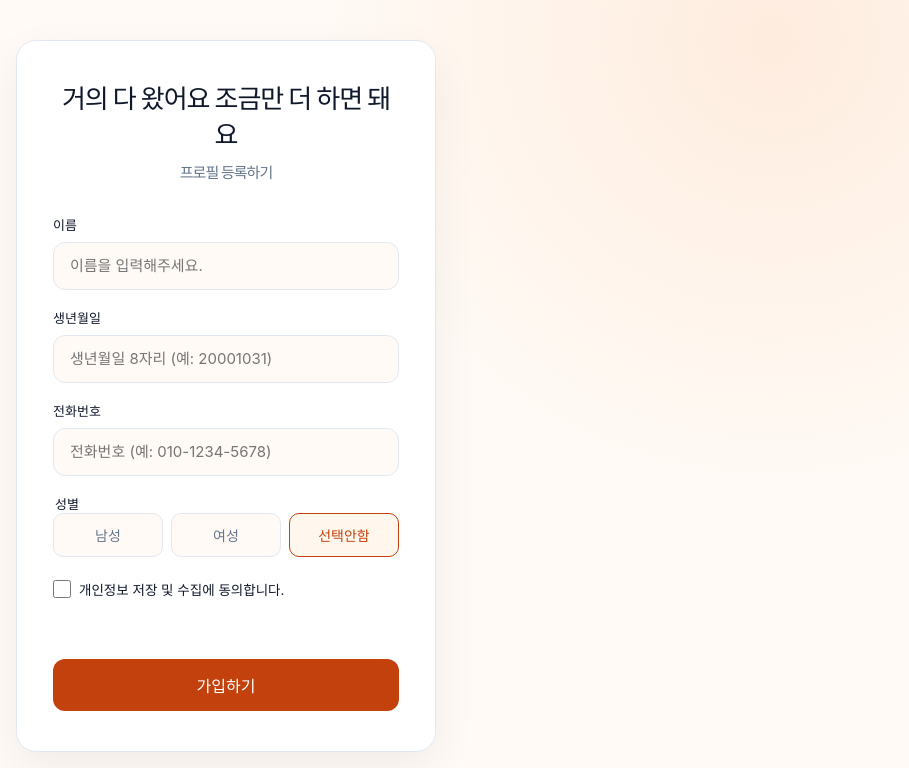
Scenario: JoinProfileView › 중복 제출을 막고 API 오류를 화면에 표시한다
The image size is (909, 768).
Type "홍길동" into the field labelled "이름" at coordinates (226, 266), box [53, 242, 399, 290]
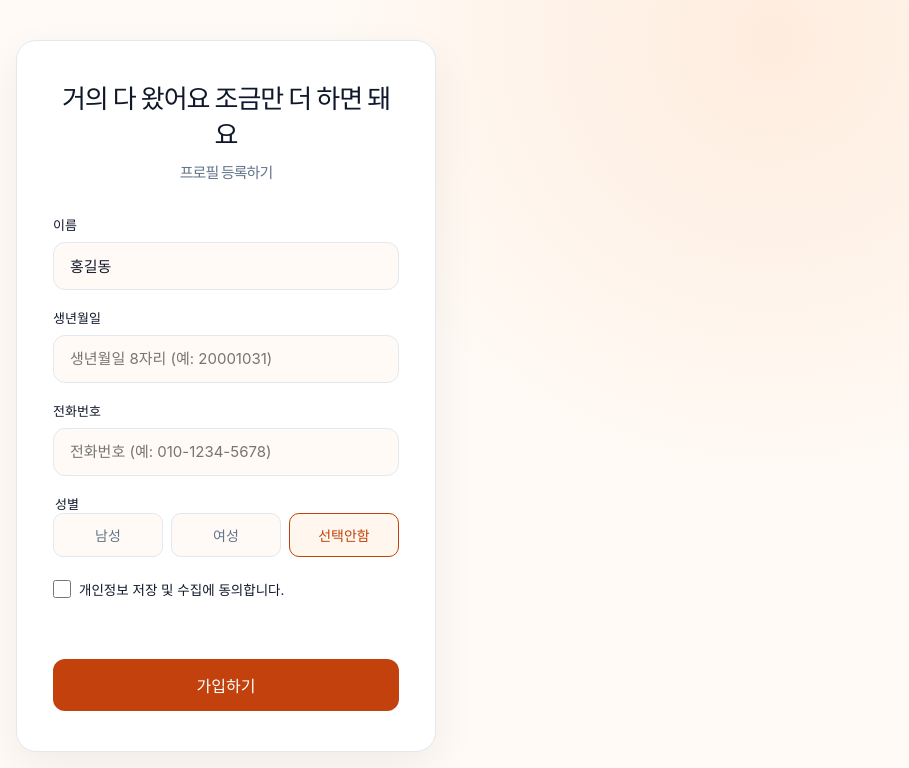
Type "20000101" into the field labelled "생년월일" at coordinates (226, 359), box [53, 335, 399, 383]
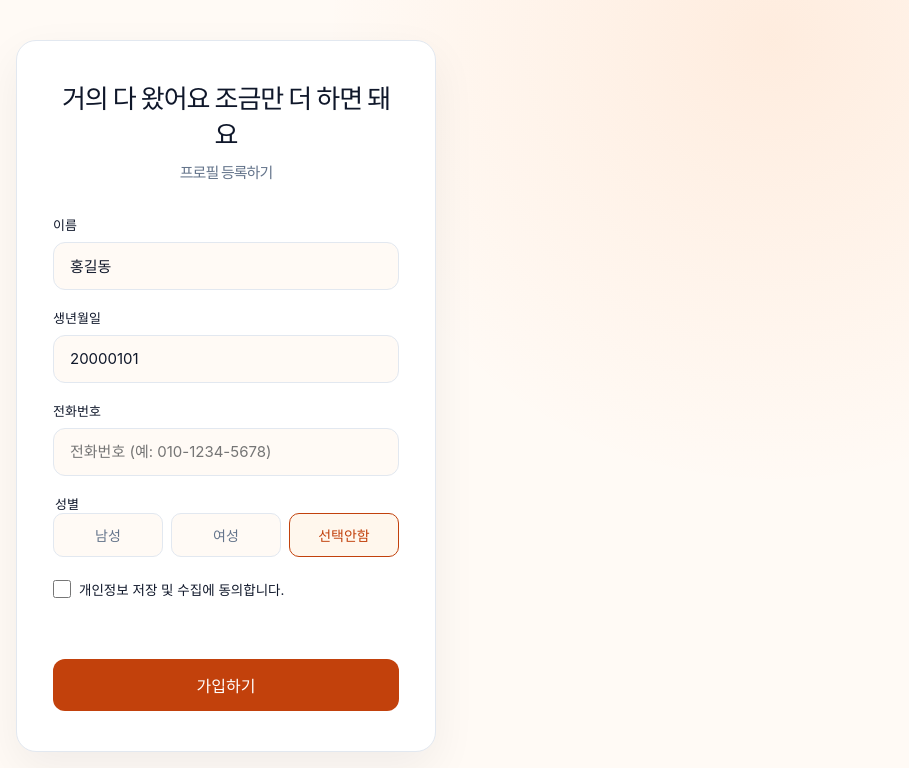
Type "010-1234-5678" into the field labelled "전화번호" at coordinates (226, 452), box [53, 428, 399, 476]
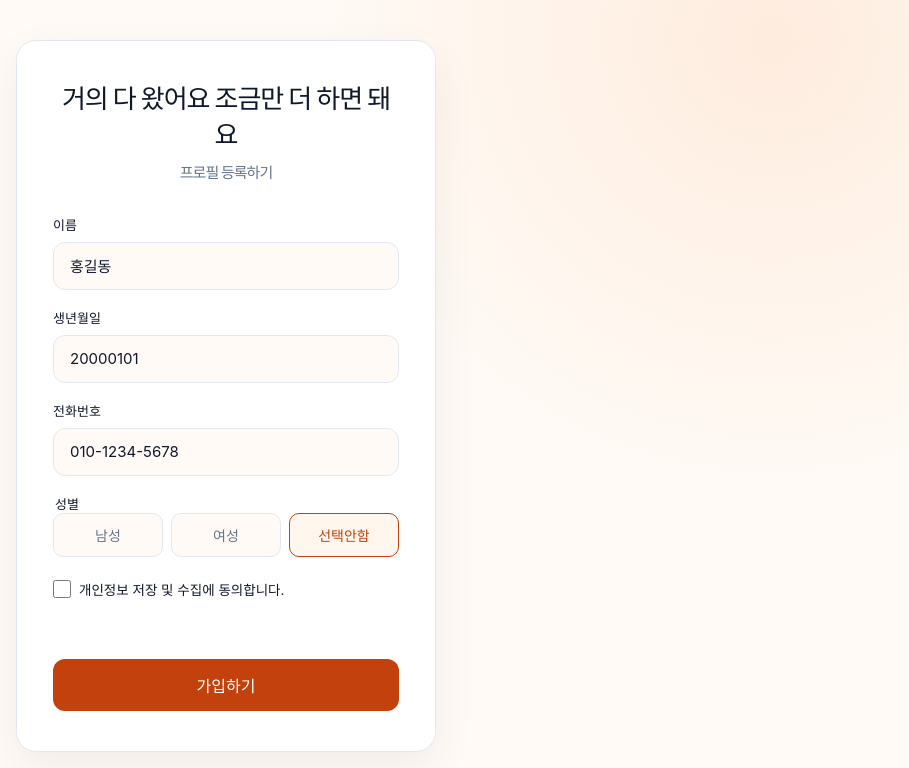
Click the checkbox labelled "개인정보 저장 및 수집에 동의합니다." at coordinates (62, 589), box [53, 580, 71, 598]
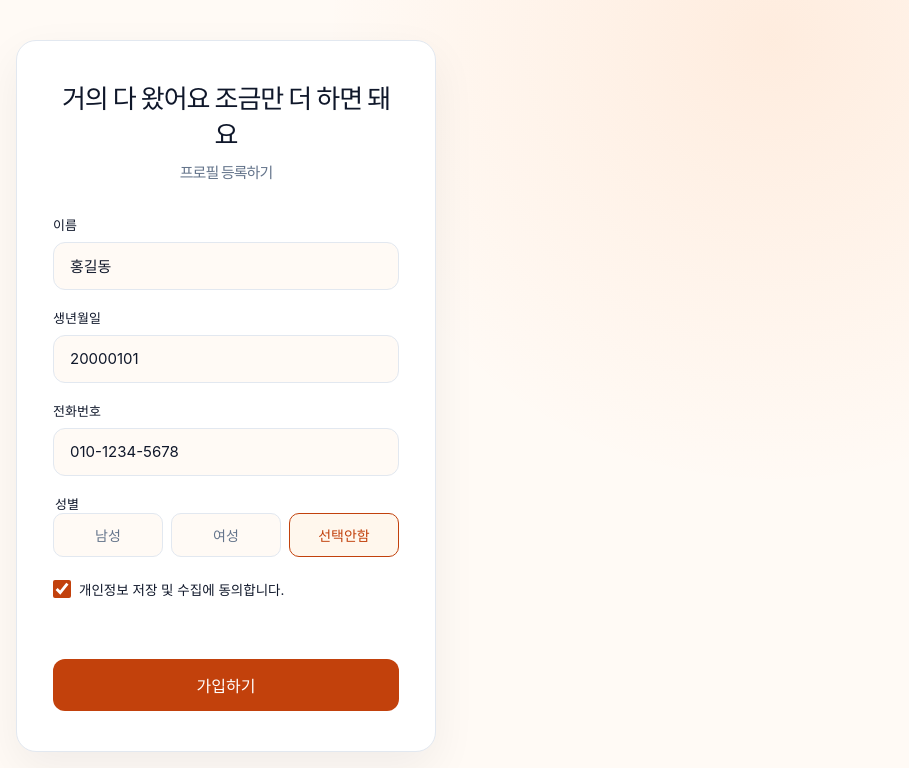
Submit the form, box [53, 215, 399, 711]
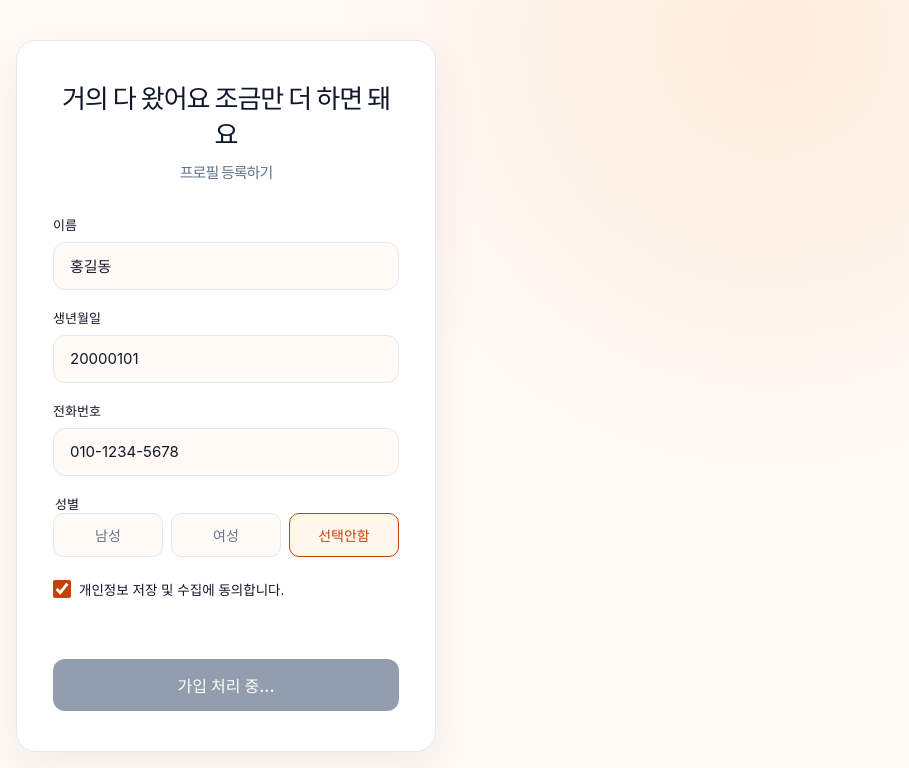
Submit the form, box [53, 215, 399, 711]
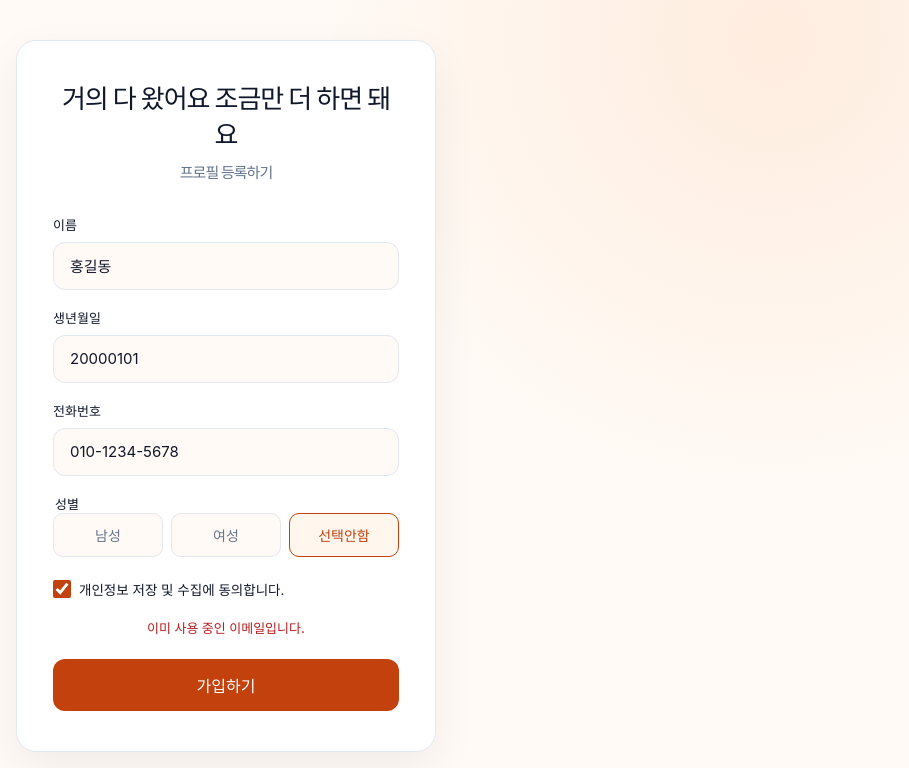
Expected: the message "이미 사용 중인 이메일입니다." is shown, [147, 620, 305, 636]
